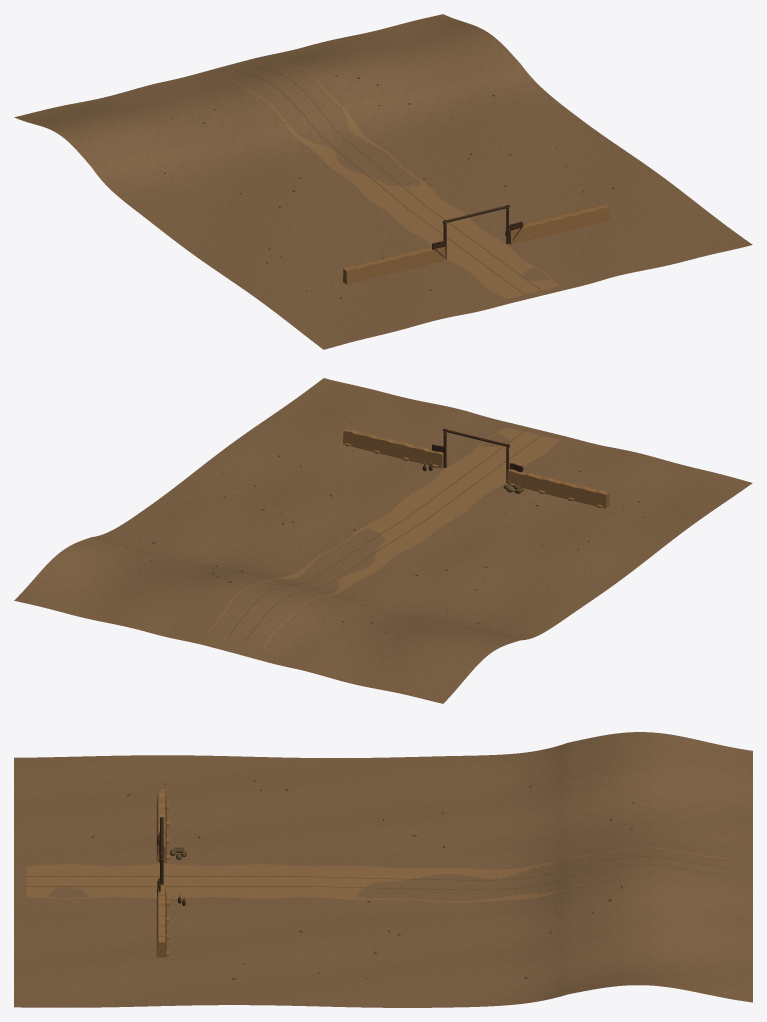
File: departure-outpost-r8.glb
3 renders of one model, top to bottom at view 1: azimuth 30°, elevation 25°; view 2: azimuth 150°, elevation 25°; view 3: azimuth 270°, elevation 25°, orthographic. The views are drawn at different scales.
Visible parts, largest first — view 1: Illustrative Longxi departure ground, Illustrative Longxi departure road, Illustrative Longxi departure wall, Illustrative Longxi departure rut, Illustrative Longxi departure wood; view 2: Illustrative Longxi departure ground, Illustrative Longxi departure road, Illustrative Longxi departure wall, Illustrative Longxi departure rut, Illustrative Longxi departure wood; view 3: Illustrative Longxi departure ground, Illustrative Longxi departure road, Illustrative Longxi departure wall, Illustrative Longxi departure rut.
Boxes of the visible parts, x1,y1,x2,y2 form: Illustrative Longxi departure ground: (14,14,752,349); Illustrative Longxi departure road: (213,60,559,299); Illustrative Longxi departure wall: (343,205,609,284); Illustrative Longxi departure rut: (233,65,541,294); Illustrative Longxi departure wood: (432,204,523,258); Illustrative Longxi departure ground: (14,378,752,703); Illustrative Longxi departure road: (207,427,559,647); Illustrative Longxi departure wall: (343,428,609,508); Illustrative Longxi departure rut: (227,431,541,641); Illustrative Longxi departure wood: (424,428,523,482); Illustrative Longxi departure ground: (14,732,752,1007); Illustrative Longxi departure road: (26,847,728,902); Illustrative Longxi departure wall: (156,789,169,957); Illustrative Longxi departure rut: (26,856,728,890).
Bounding box in the file's own units: 48 × 4.22 × 60.
10 materials, 10 textured.
